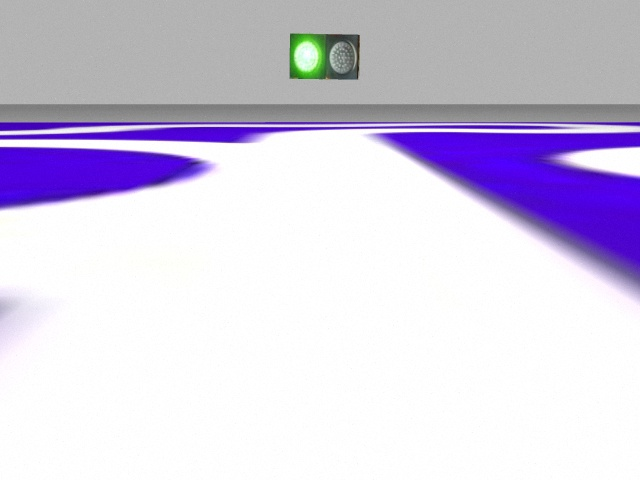green: (289, 31, 329, 81)
